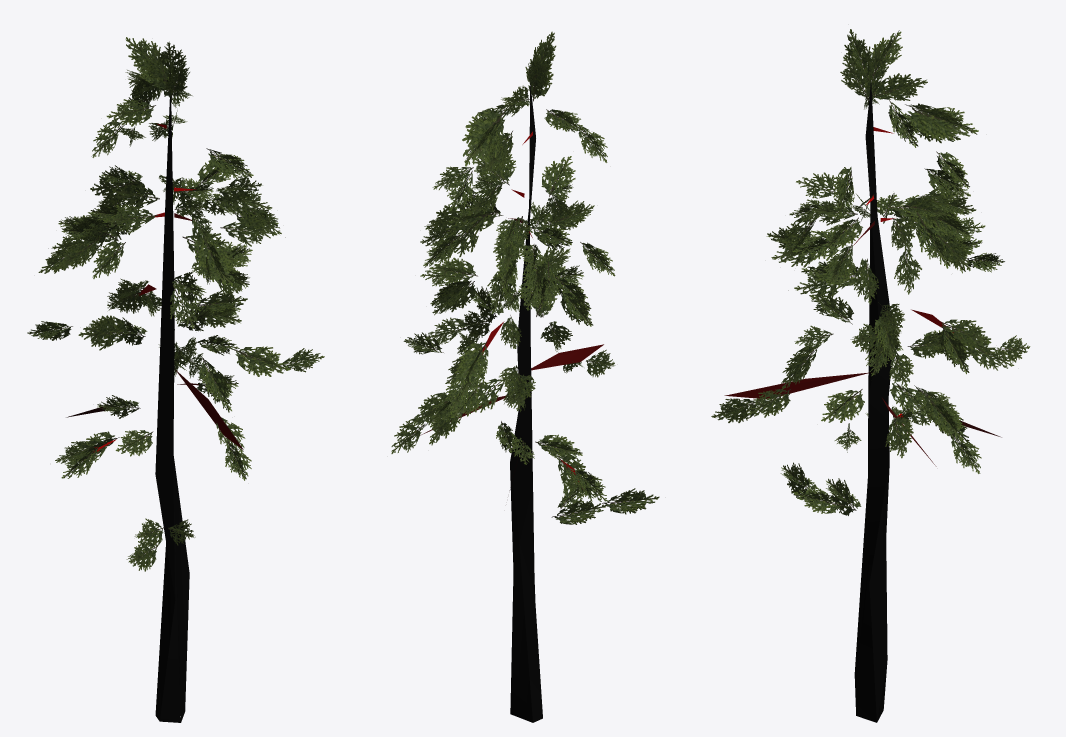
Rendered from pine3 lod4.FBX.
3 renders of one model, left to right at view 1: azimuth 30°, elevation 25°; view 2: azimuth 150°, elevation 25°; view 3: azimuth 270°, elevation 25°, orthographic.
Visible parts, largest first — view 1: pine3_LOD4; view 2: pine3_LOD4; view 3: pine3_LOD4.
Boxes of the visible parts, x1,y1,x2,y2 form: pine3_LOD4: (27, 37, 324, 722); pine3_LOD4: (391, 31, 659, 722); pine3_LOD4: (711, 29, 1030, 722).
Size of the model in its own units: 134154 by 346402 by 160517.
